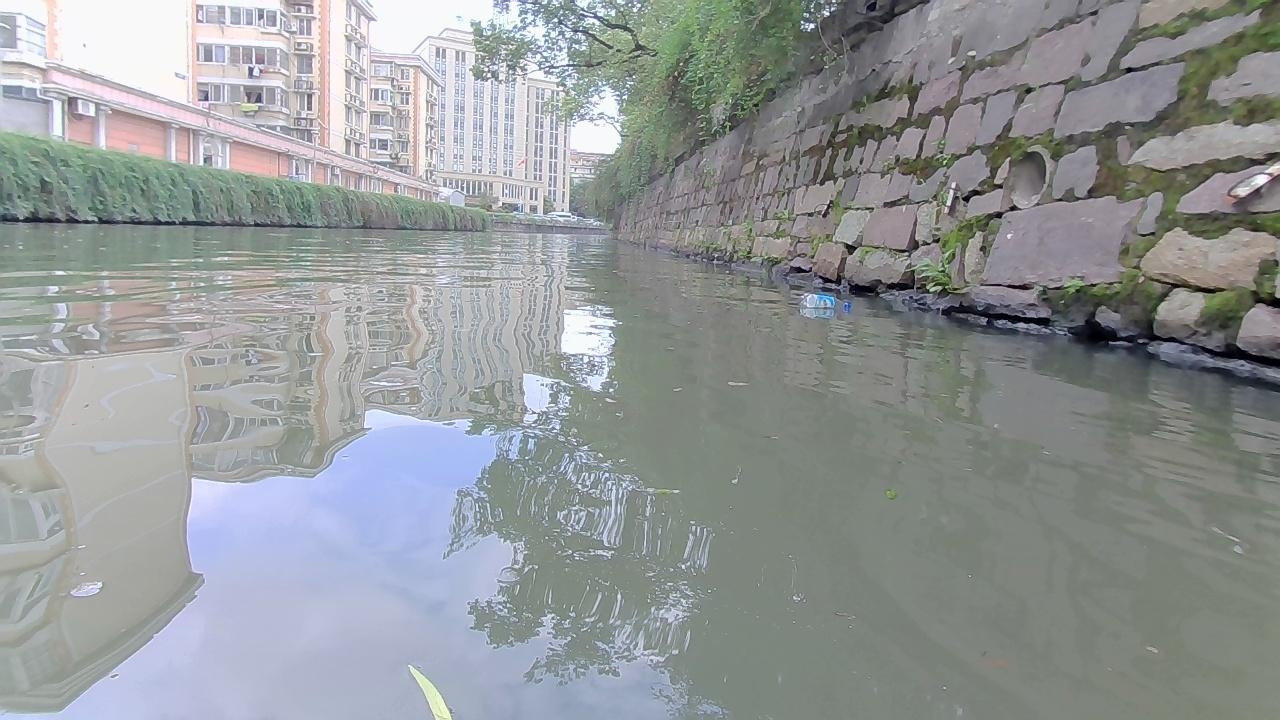bottle: (797, 292, 851, 307)
